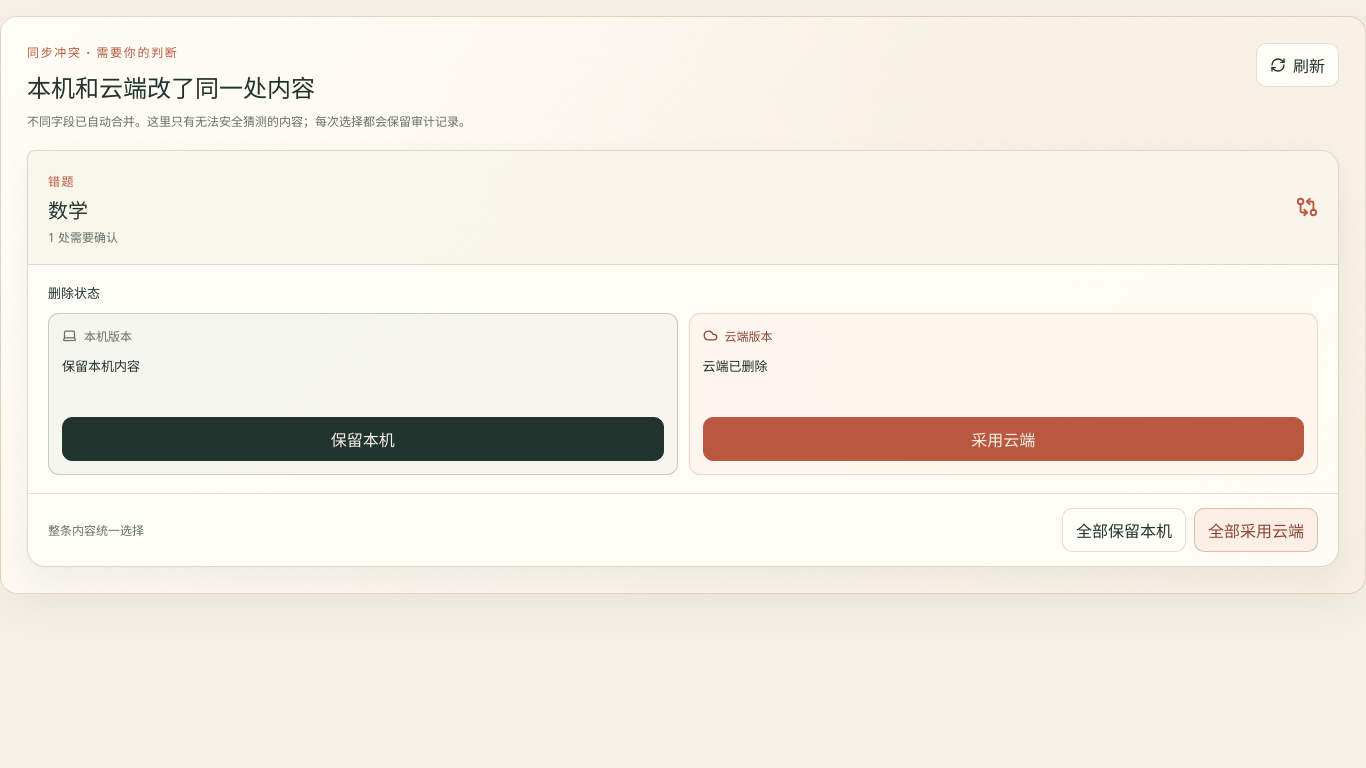
Scenario: SyncConflictCenter › renders remote deletion as an explicit keep-or-delete decision
Expected: the text "云端已删除" is shown, top-left (702, 357), bottom-right (768, 375)
Expected: the text "保留本机内容" is shown, top-left (62, 357), bottom-right (140, 375)
Click the button with aria-label "数学全部采用云端版本": (1256, 530) top-left (1194, 508), bottom-right (1318, 552)
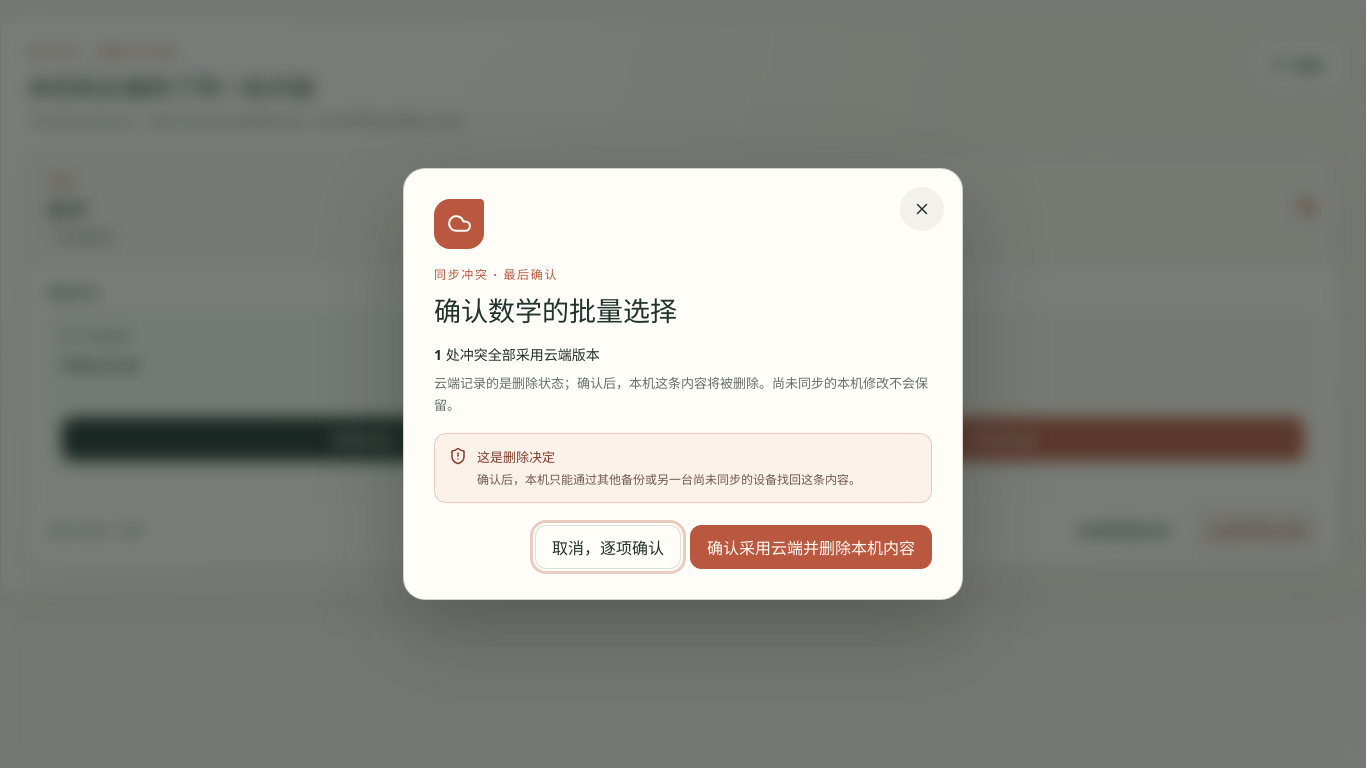
Expected: the dialog shows "本机这条内容将被删除", top-left (434, 374), bottom-right (928, 414)
Expected: the button "确认采用云端并删除本机内容" is shown, top-left (690, 525), bottom-right (932, 569)
